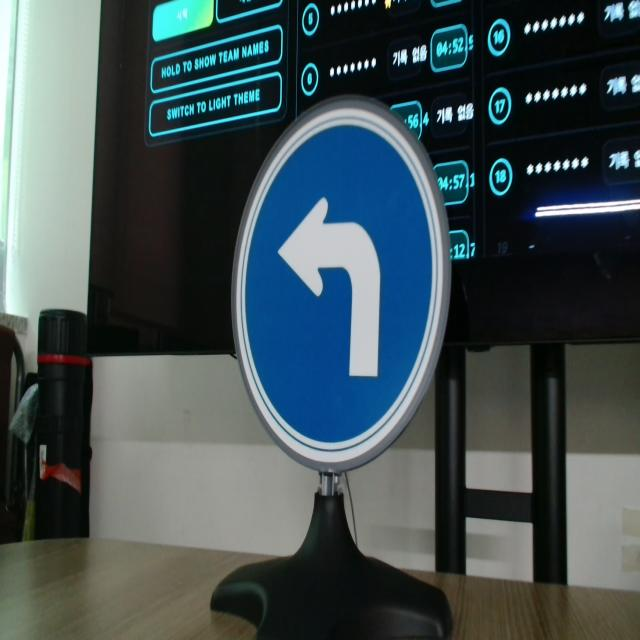left_direction: (229, 72, 457, 483)
